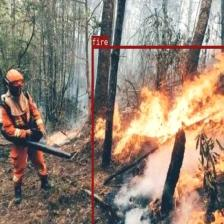fire: (90, 45, 224, 224)
